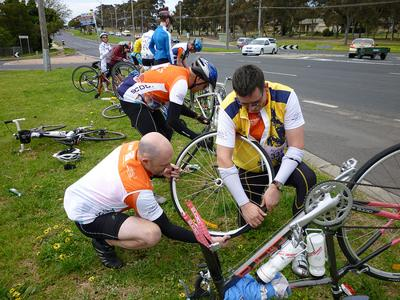person: (61, 130, 185, 270)
